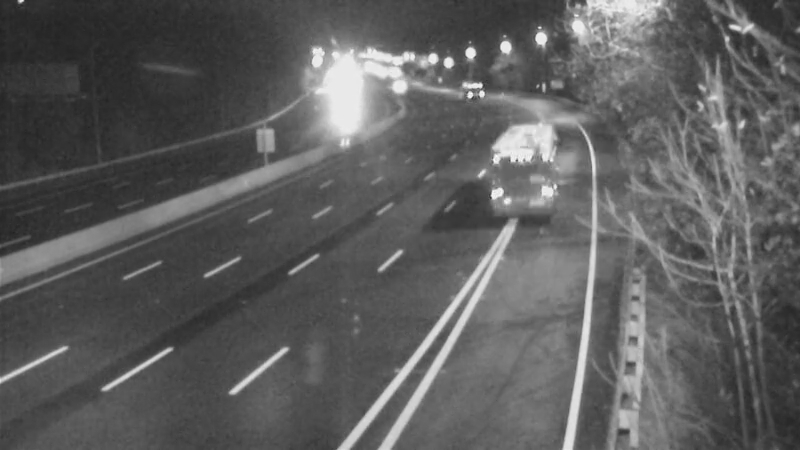vehicle: (476, 138, 556, 218), (374, 59, 424, 109), (448, 63, 498, 113), (316, 81, 366, 131)
